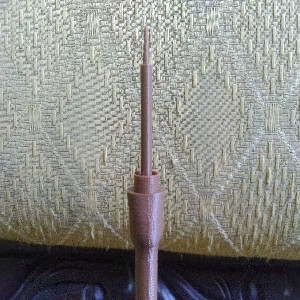solder: (125, 26, 166, 300)
